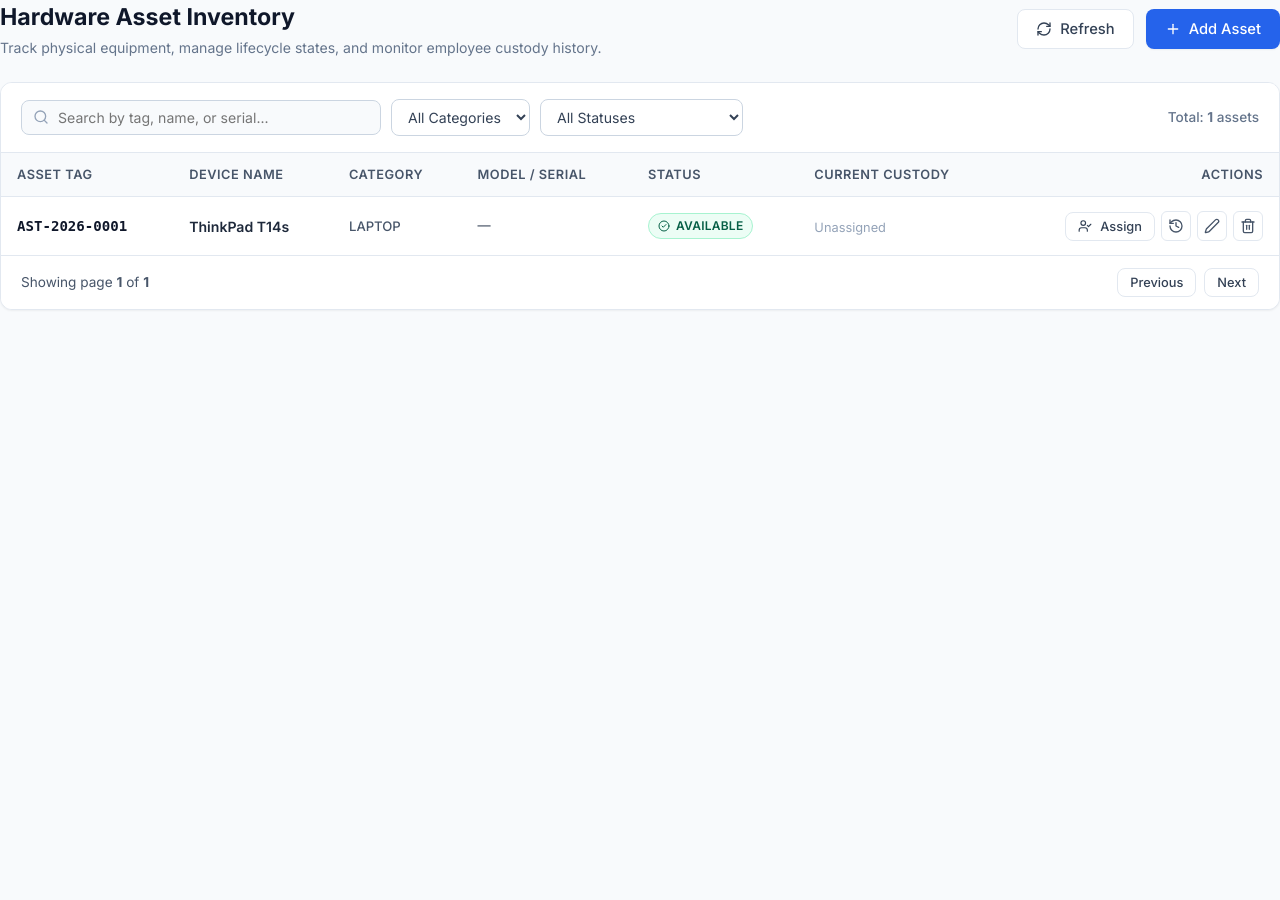
Test: Module 4 — Assets, Employees, Lifecycle & Dashboard Tests › 7. Assignment history modal displays chronological custody records
Click the button named "View history for AST-2026-0001": (1176, 226) [1161,211,1191,241]
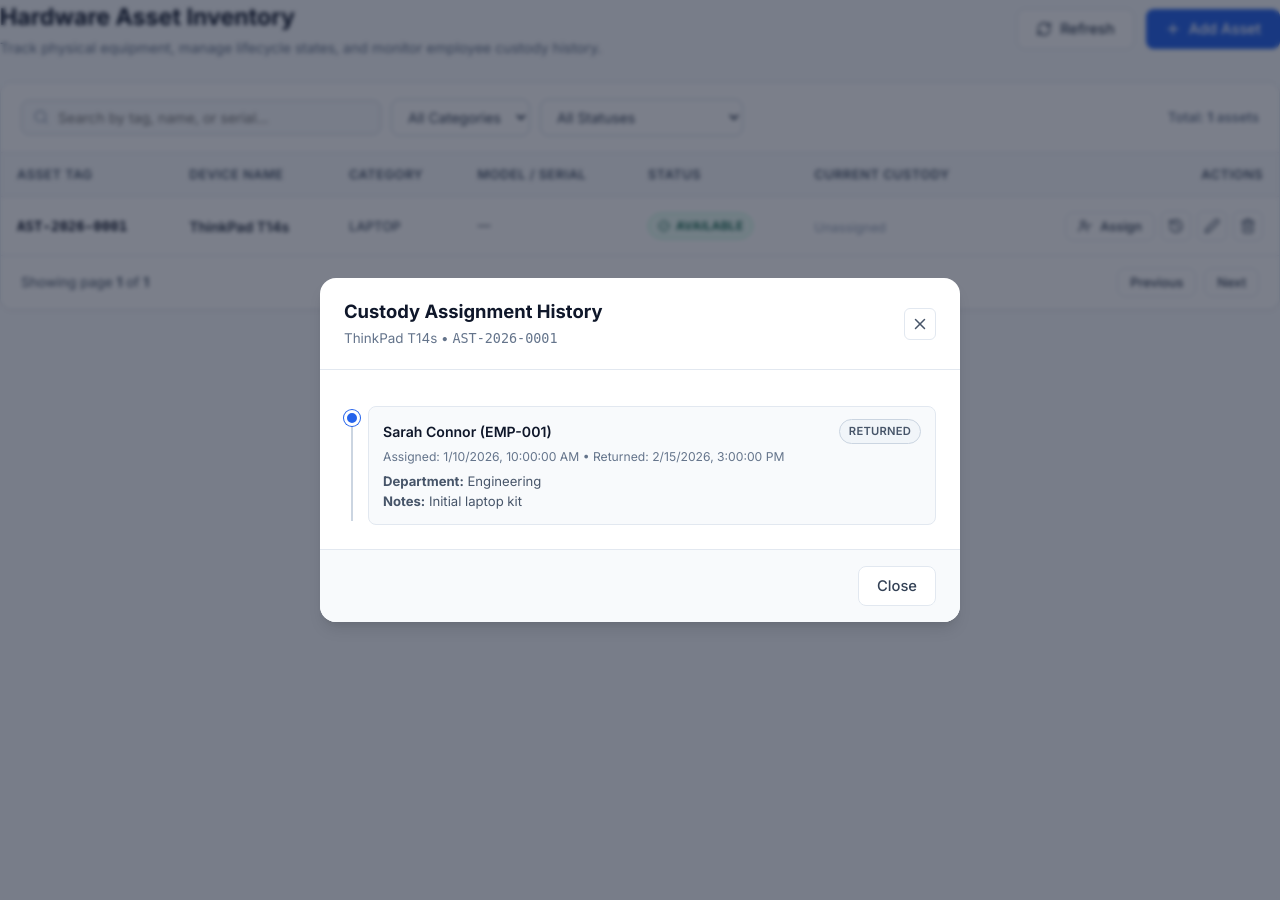
Expected: the heading "Custody Assignment History" is shown, [344,298,603,326]
Expected: the text "Sarah Connor (EMP-001)" is shown, [383,421,552,442]
Expected: the text "Notes: Initial laptop kit" is shown, [383,493,522,509]
